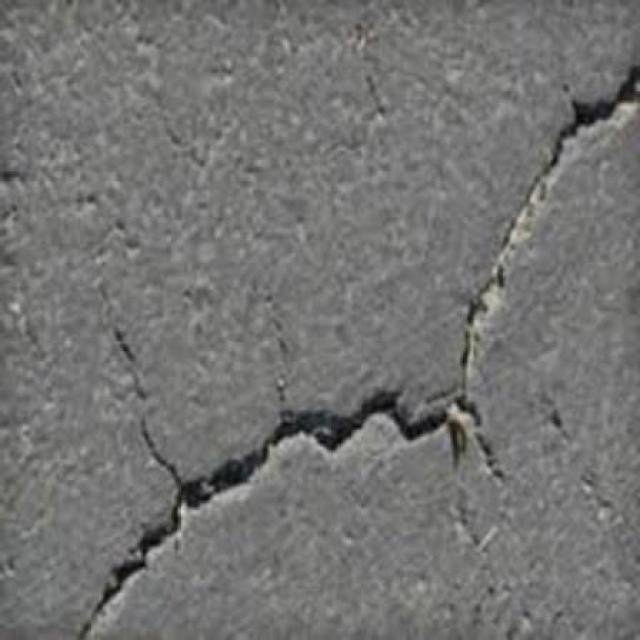Crack: (80, 389, 468, 639), (498, 68, 640, 259), (460, 269, 504, 386), (474, 436, 502, 478), (456, 399, 480, 428), (116, 329, 131, 359)
